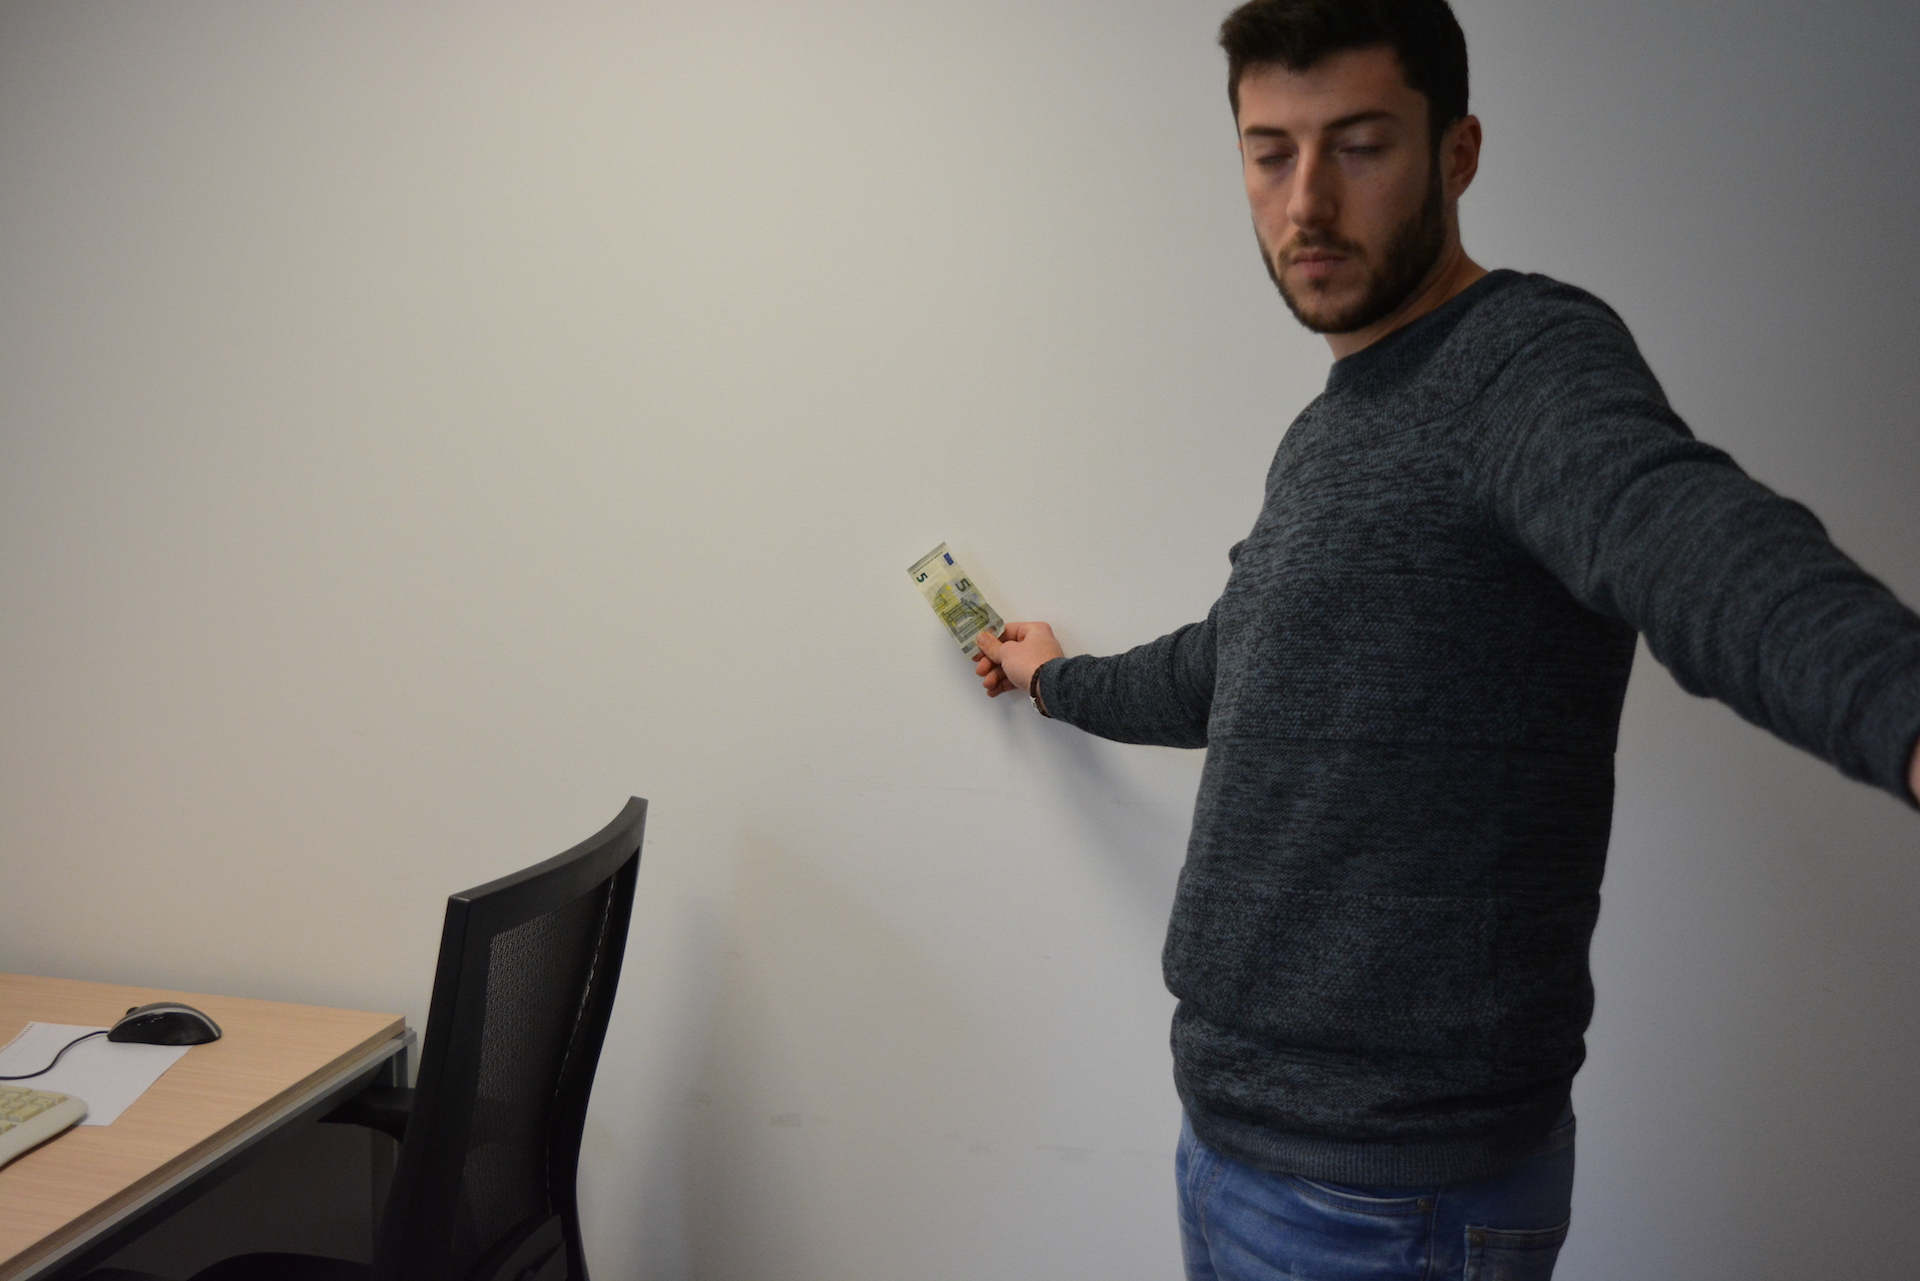billete: (906, 540, 1006, 662)
